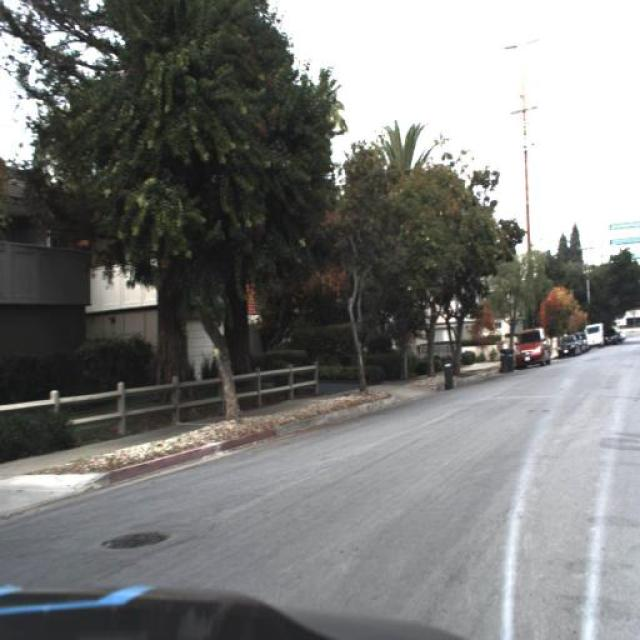car: (514, 325, 550, 370), (585, 322, 604, 348), (558, 334, 578, 358), (603, 326, 619, 346)
